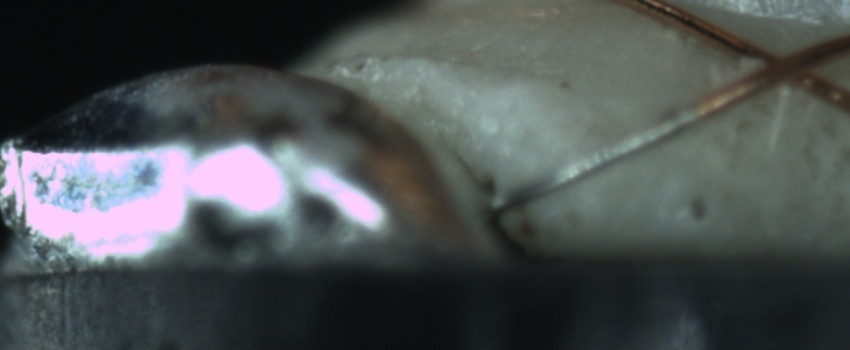CL: (728, 29, 830, 98)
TS: (489, 106, 704, 214)
